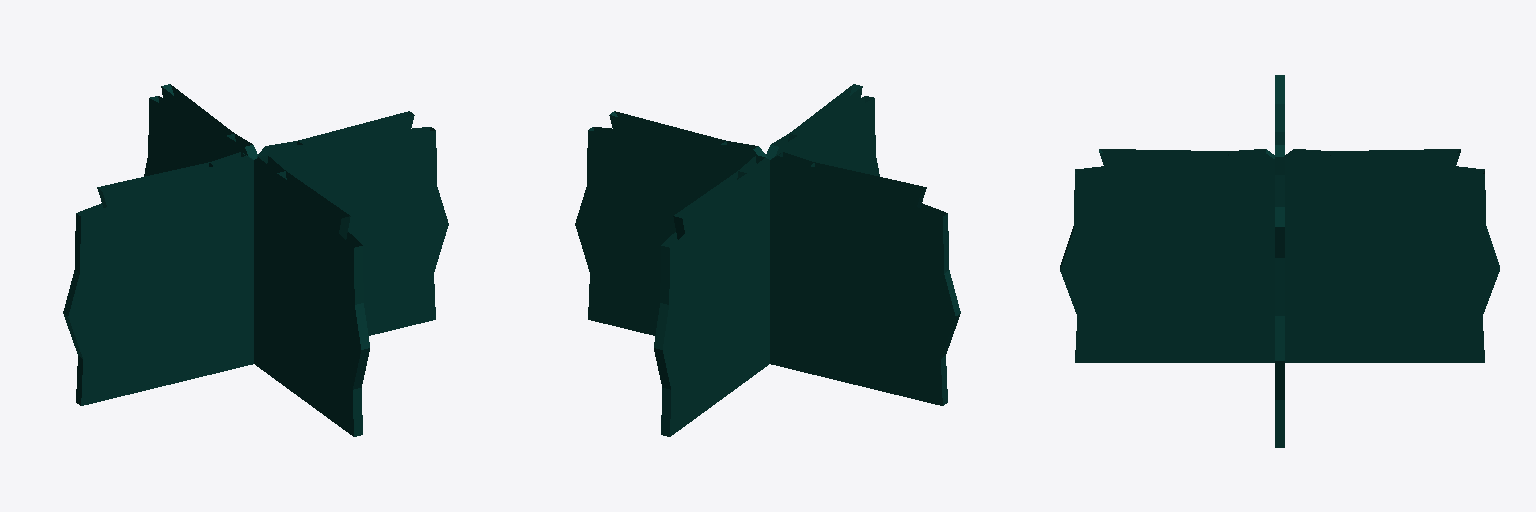
The model's file is slot_grass.obj.
The picture shows the model from 3 angles: view 1: azimuth 30°, elevation 25°; view 2: azimuth 150°, elevation 25°; view 3: azimuth 270°, elevation 25°; orthographic projection.
Visible parts, largest first — view 1: grass; view 2: grass; view 3: grass.
Part boxes in pixels (bbox=[...]): grass: bbox=[63, 84, 448, 436]; grass: bbox=[575, 84, 960, 436]; grass: bbox=[1060, 75, 1499, 447].
Size of the model in its own units: 2.52 by 1.33 by 2.52.